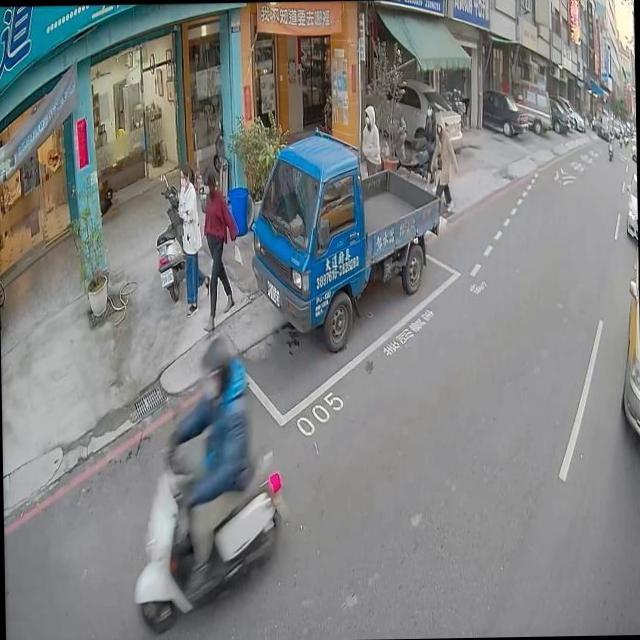person: (124, 352, 223, 626), (192, 160, 243, 334), (173, 162, 206, 322), (428, 111, 462, 217), (358, 104, 382, 180), (419, 105, 436, 179), (608, 129, 612, 142)
